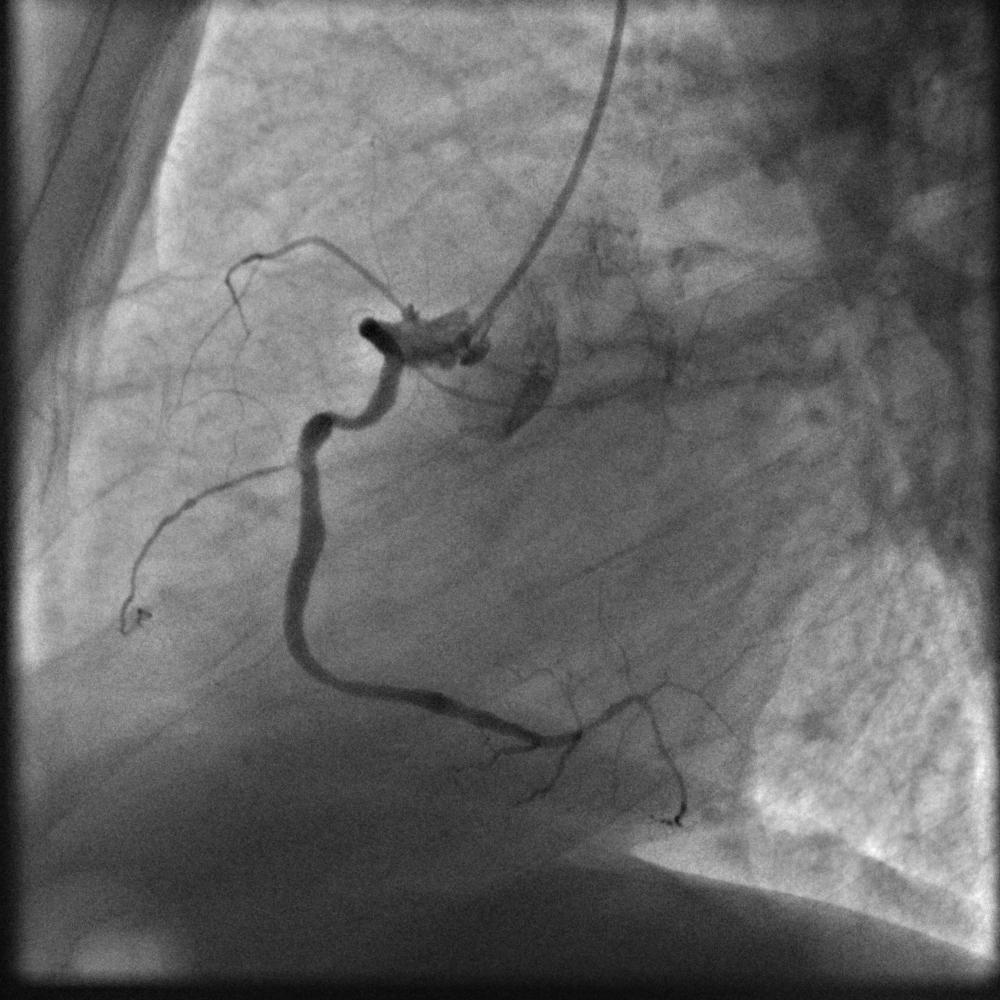Stenosis: (326, 409, 352, 432)
